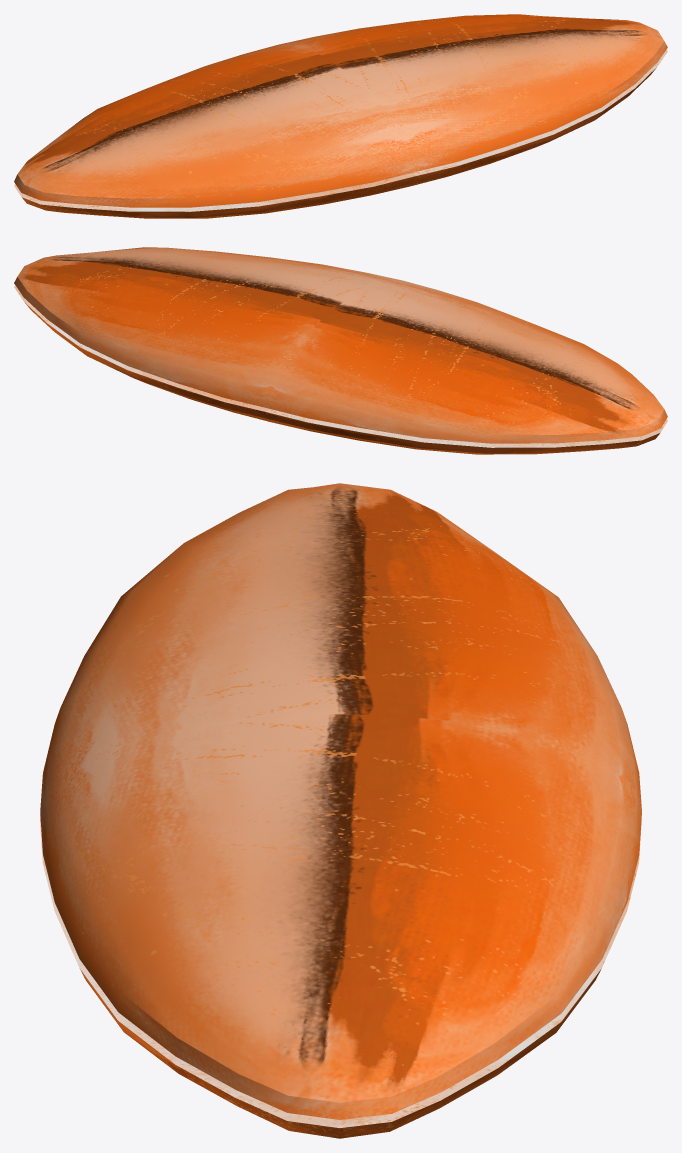
File: ekmek_tam_basilmis.fbx
3 renders of one model, top to bottom at view 1: azimuth 30°, elevation 25°; view 2: azimuth 150°, elevation 25°; view 3: azimuth 270°, elevation 25°, orthographic. The views are drawn at different scales.
Visible parts, largest first — view 1: Sphere.003, Sphere.008; view 2: Sphere.003, Sphere.008; view 3: Sphere.003, Sphere.008.
Part boxes in pixels (x1=…): Sphere.003: x1=14, y1=14, x2=667, y2=207; Sphere.008: x1=14, y1=49, x2=667, y2=218; Sphere.003: x1=14, y1=247, x2=667, y2=443; Sphere.008: x1=14, y1=285, x2=667, y2=454; Sphere.003: x1=40, y1=483, x2=641, y2=1119; Sphere.008: x1=40, y1=817, x2=641, y2=1138.
Size of the model in its own units: 291 by 34.71 by 118.
